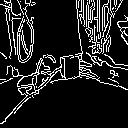cube: (57, 50, 87, 83)
